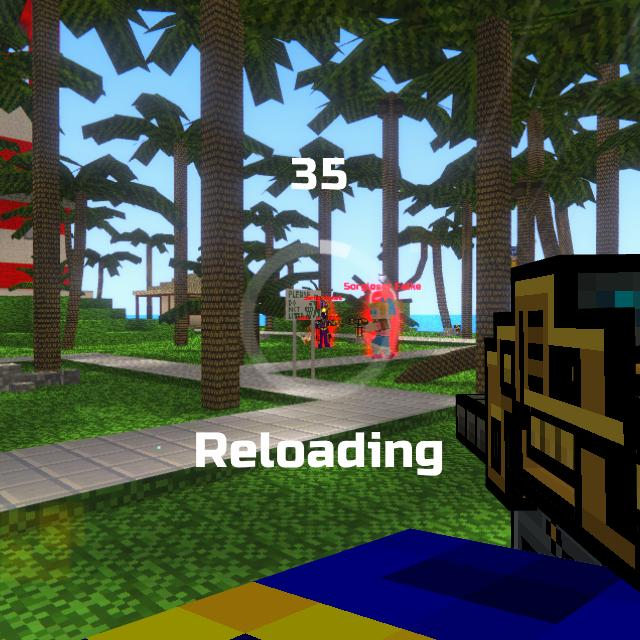Enemy: (360, 301, 392, 357), (312, 306, 336, 347)
